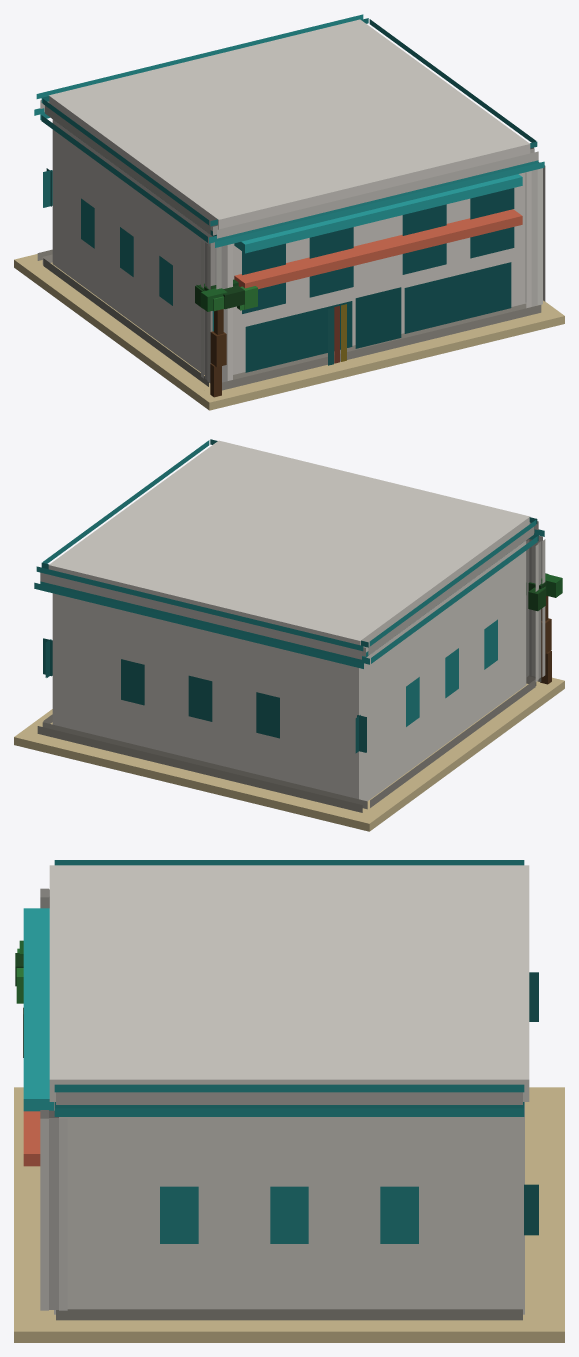
Rendered from UmbrellaLizardSil.fbx.
3 renders of one model, top to bottom at view 1: azimuth 30°, elevation 25°; view 2: azimuth 150°, elevation 25°; view 3: azimuth 270°, elevation 25°, orthographic. The views are drawn at different scales.
Parts seen in each view (by area): view 1: BE_S_All; view 2: BE_S_All; view 3: BE_S_All.
Part boxes in pixels (x1,y1,x2,y2): BE_S_All: [14, 14, 564, 410]; BE_S_All: [14, 439, 564, 831]; BE_S_All: [14, 860, 564, 1342].
Bounding box in the file's own units: 42.04 × 19.9 × 40.04.
